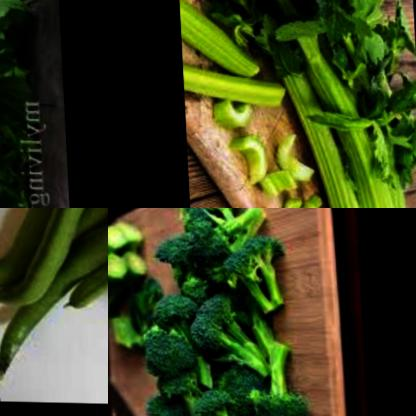beans: (0, 208, 108, 392)
broccoli: (130, 208, 313, 416)
celery: (233, 0, 416, 208), (0, 0, 52, 208), (178, 0, 260, 80), (182, 56, 288, 112), (271, 130, 314, 188), (227, 132, 269, 191), (210, 96, 255, 131), (255, 168, 300, 200), (271, 191, 324, 208)
